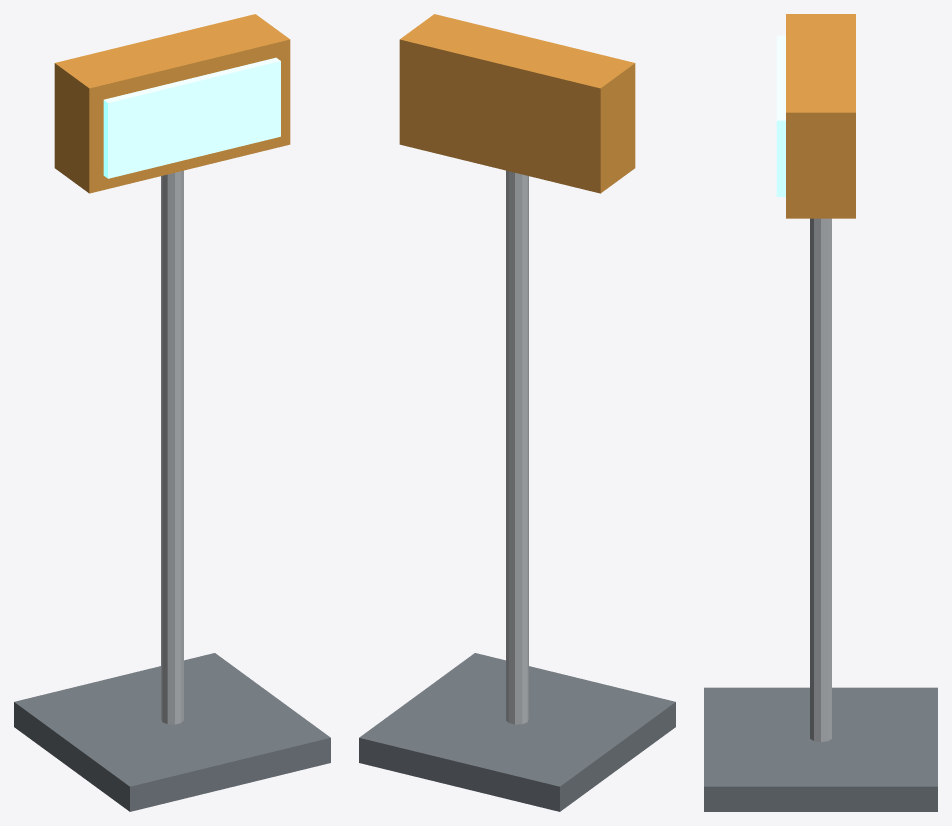
File: mech-hangar-and-battle-frames-inspection-light-8bddee1b__26976.glb
3 views of the same model, side by side, from view 1: azimuth 30°, elevation 25°; view 2: azimuth 150°, elevation 25°; view 3: azimuth 270°, elevation 25° (orthographic).
Visible parts, largest first — view 1: inspection-light; view 2: inspection-light; view 3: inspection-light.
Boxes of the visible parts, x1,y1,x2,y2 form: inspection-light: (14,14,330,811); inspection-light: (359,14,675,811); inspection-light: (704,14,937,811).
Size of the model in its own units: 0.5 by 1.65 by 0.5.
